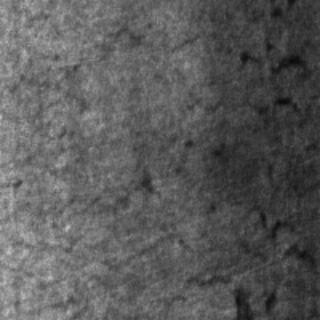crazing: (0, 24, 140, 124), (167, 28, 307, 118)
